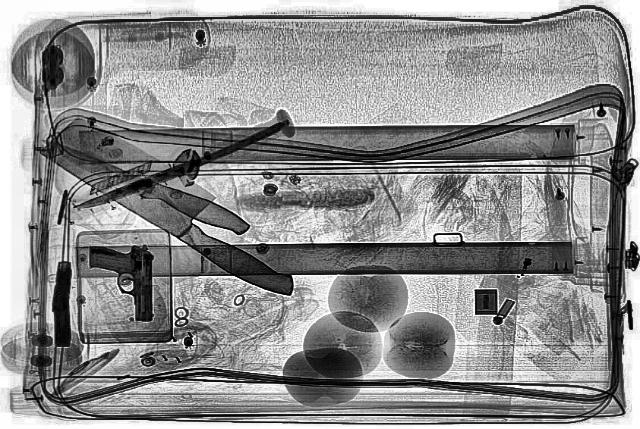Gun: (88, 244, 156, 322), (50, 262, 74, 346)
Knife: (25, 112, 333, 304), (31, 133, 258, 237), (76, 120, 292, 212)
